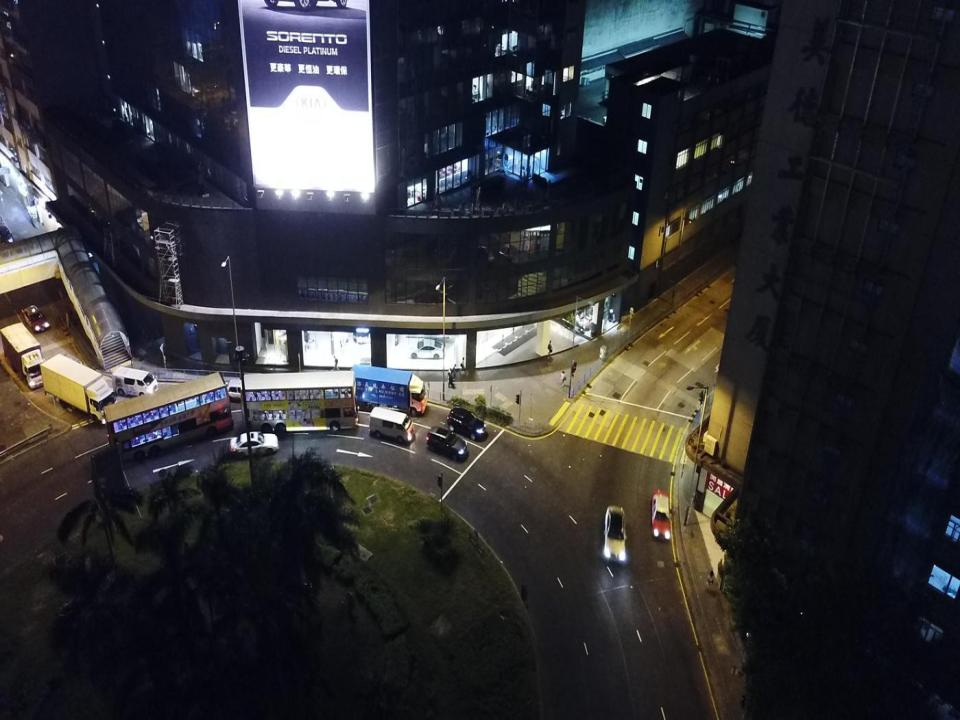bus: (103, 372, 233, 461), (239, 370, 359, 434)
car: (426, 426, 468, 460), (604, 506, 627, 564), (230, 431, 279, 456), (448, 408, 486, 440), (652, 487, 670, 540), (22, 305, 51, 334), (407, 338, 445, 360), (352, 300, 371, 344), (224, 378, 258, 401)
truck: (39, 354, 117, 424), (350, 364, 428, 415), (0, 321, 47, 390)
van: (369, 407, 415, 442), (112, 364, 158, 398)
